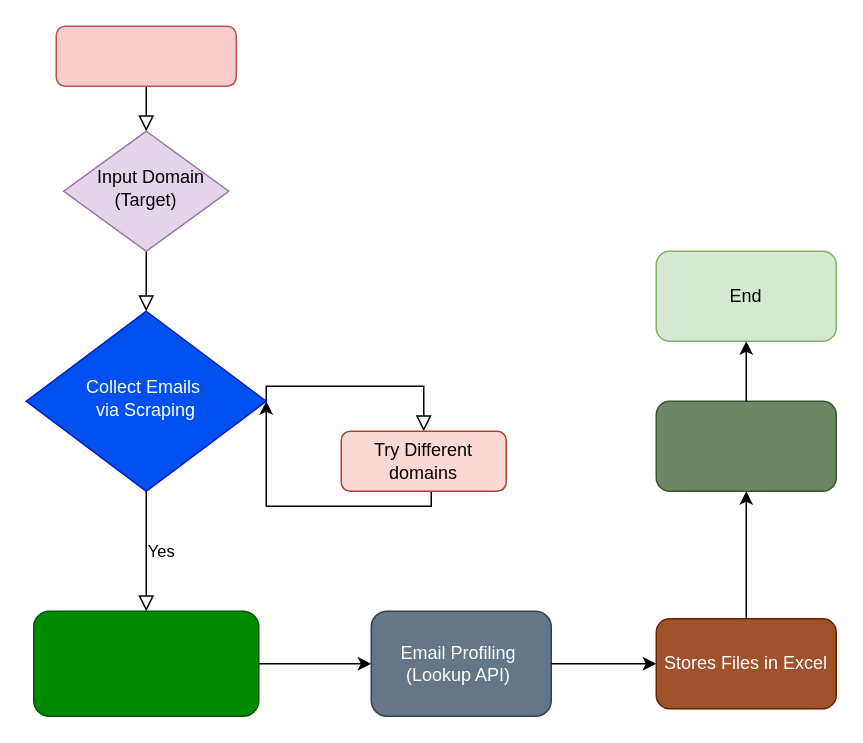
Some shapes in this 863 by 743 pixel diagram are drawn without their labels. Here are the shapes that lost their labels. From the top down, the centre of each, then its label:
the point at 145,55: Start
the point at 745,445: Generate Final Report
the point at 145,663: Verify & Deduplicate Emails
